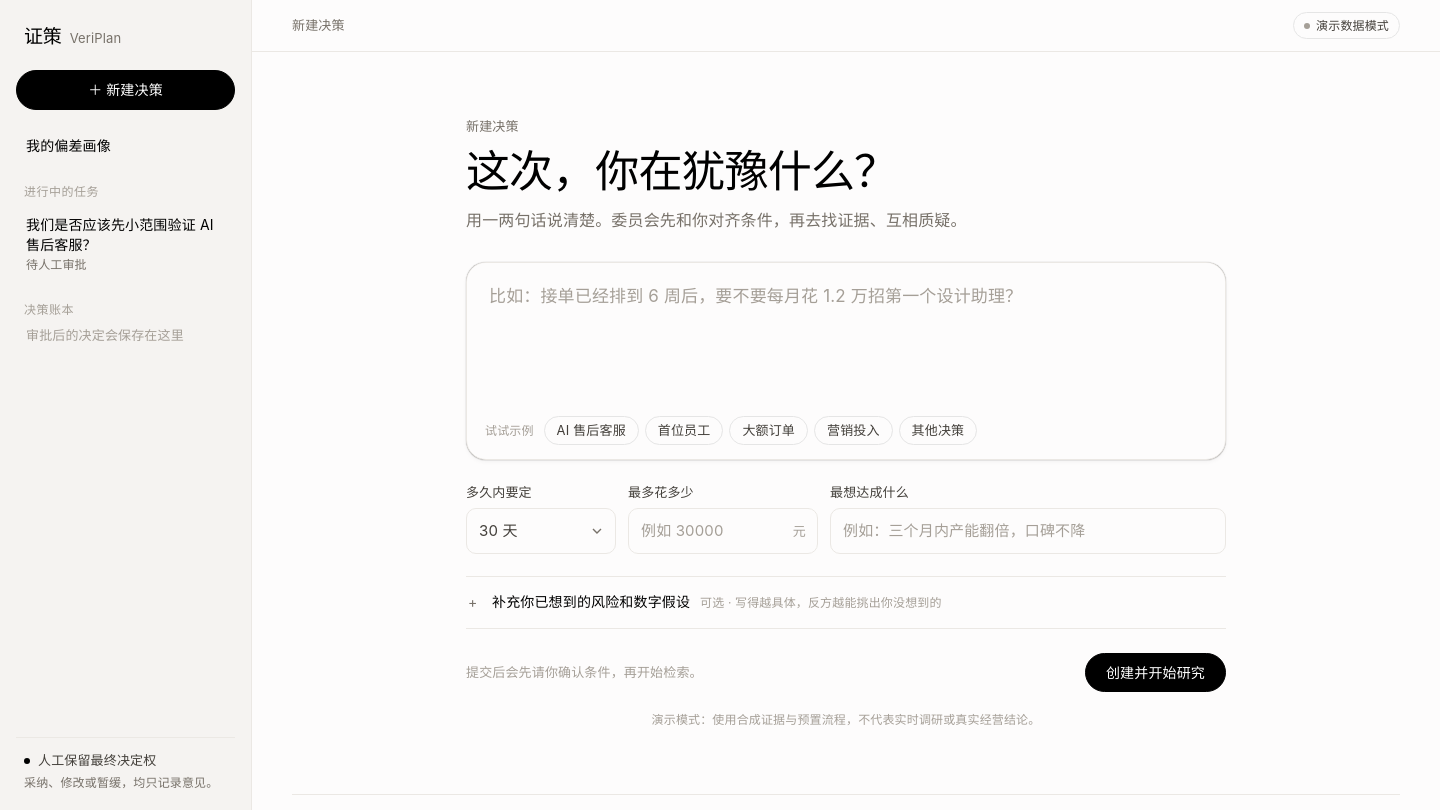
Test case: decision workspace › offers a clean rebuild when a completed report contains a failed query
The image size is (1440, 810).
Click the button "我们是否应该先小范围验证 AI 售后客服？ 待人工审批". click: coordinates (126, 244)
box: [16, 207, 235, 282]
(page scrolled)
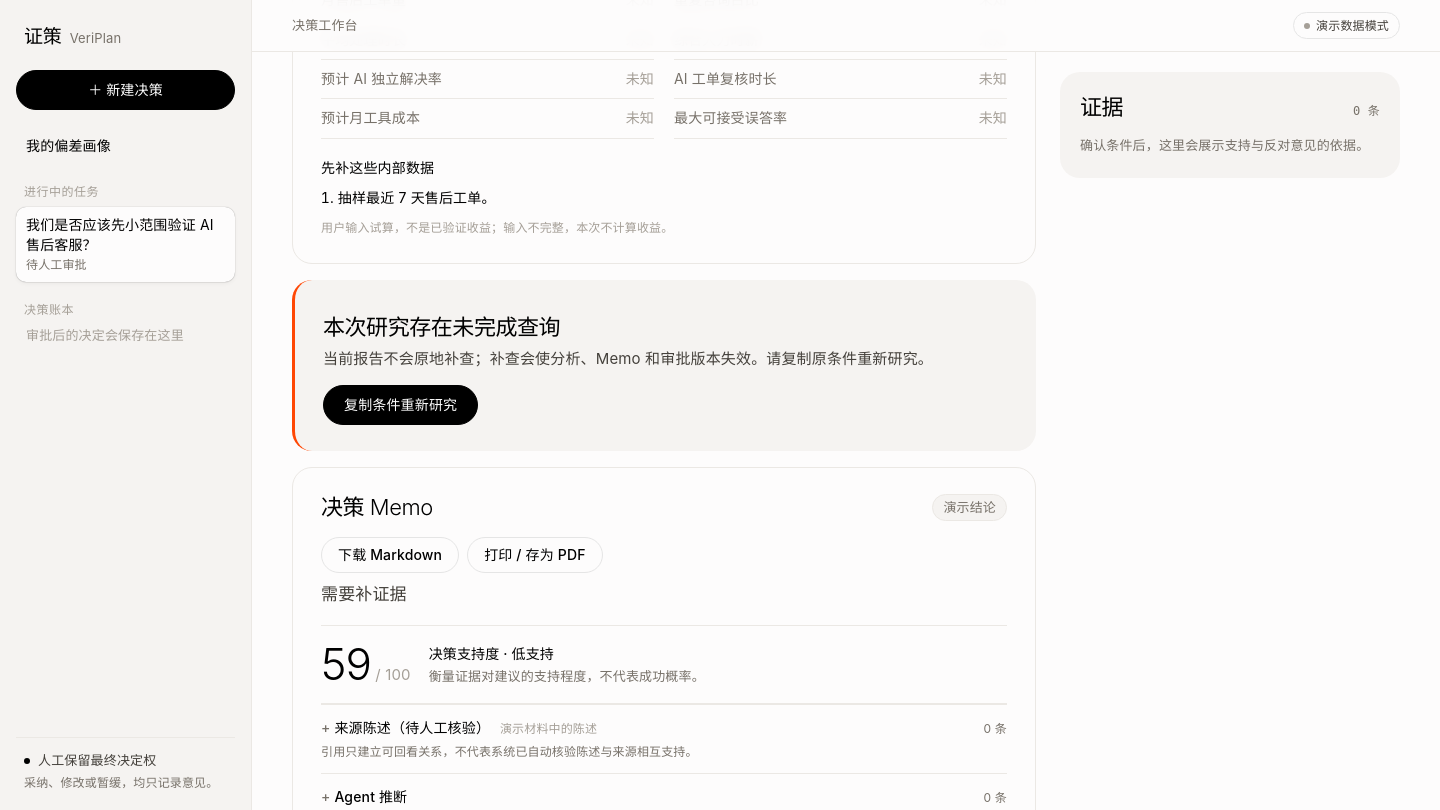
Expected: the text "当前报告不会原地补查；补查会使分析、Memo 和审批版本失效。请复制原条件重新研究。" is shown, [323, 347, 1008, 371]
Click the button "复制条件重新研究". click: coordinates (401, 405)
box: [323, 385, 478, 425]
(page scrolled)
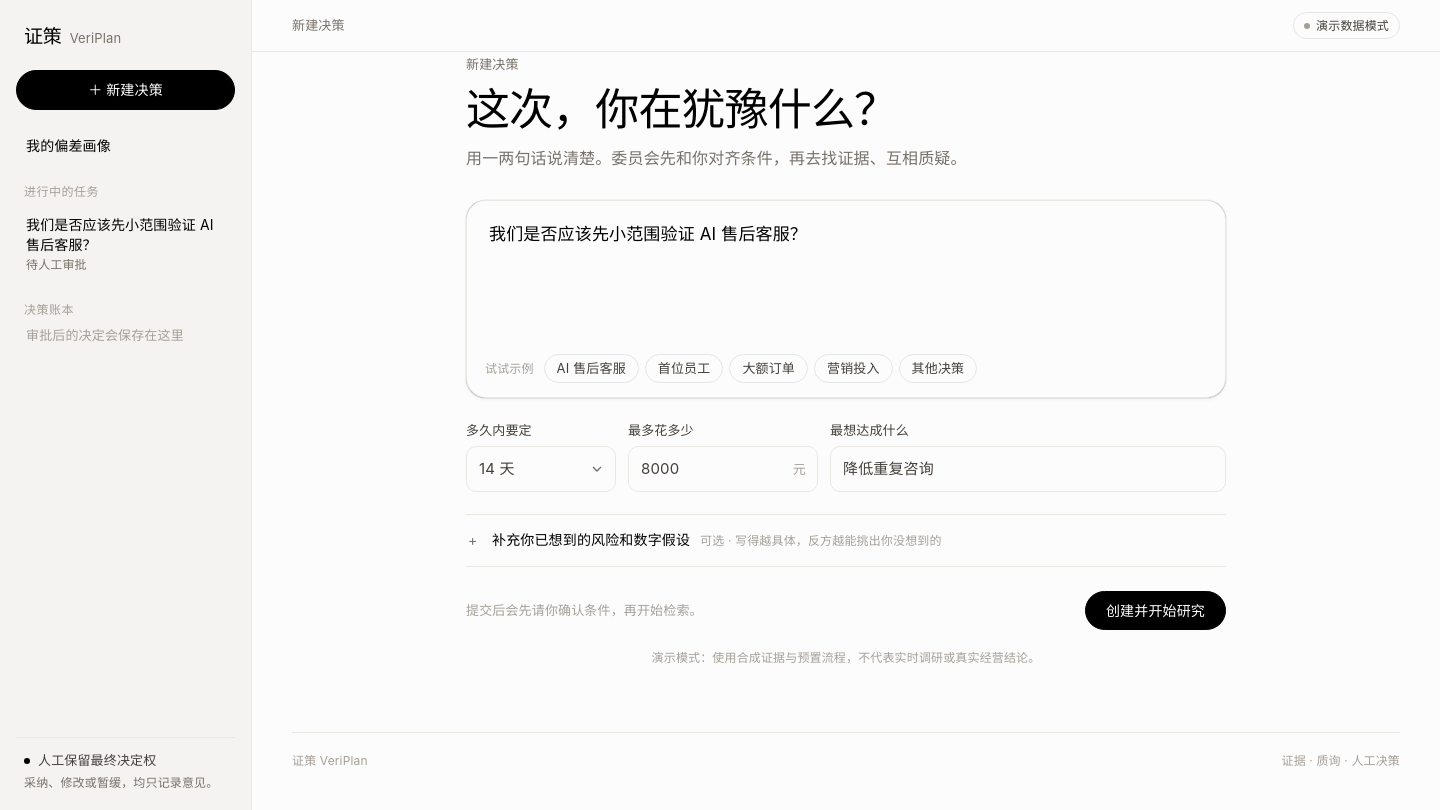
Expected: the text box named "经营决策问题" holds "我们是否应该先小范围验证 AI 售后客服？", [467, 201, 1225, 338]
Expected: the dropdown named "时间窗口" shows "14 天", [466, 446, 616, 492]
